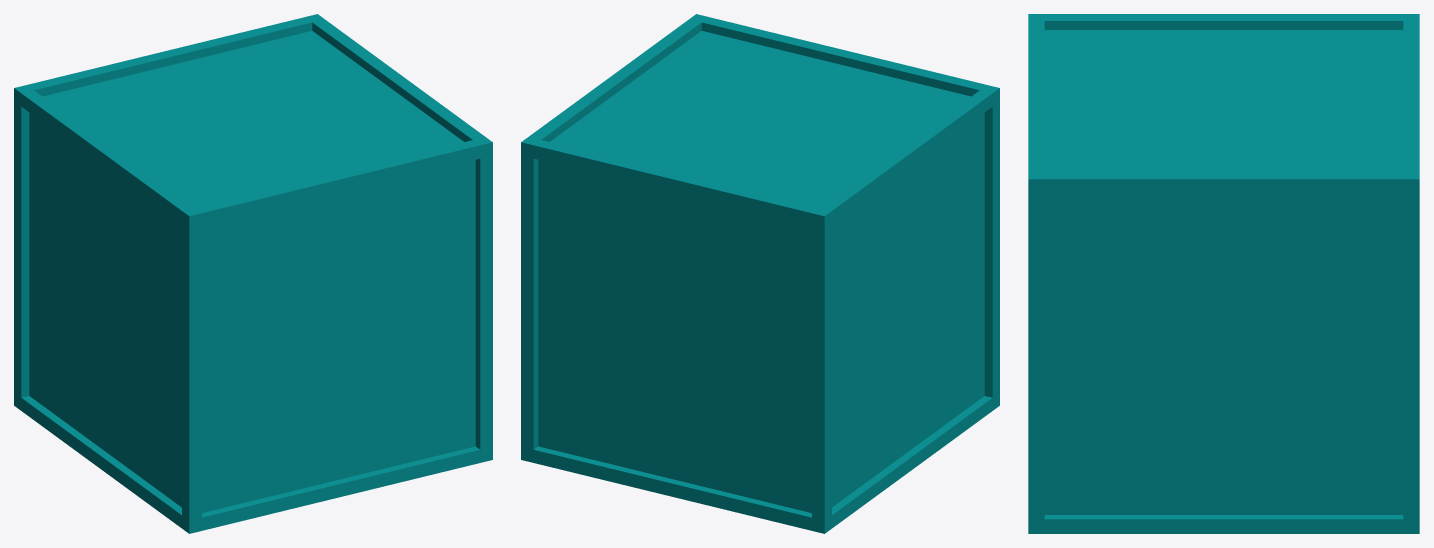
File: SFI0410007.fbx
The picture shows the model from 3 angles, left to right: view 1: azimuth 30°, elevation 25°; view 2: azimuth 150°, elevation 25°; view 3: azimuth 270°, elevation 25°; orthographic projection. The views are drawn at different scales.
Visible parts, largest first — view 1: smSFI0410007; view 2: smSFI0410007; view 3: smSFI0410007.
Boxes of the visible parts, x1,y1,x2,y2 form: smSFI0410007: (14, 14, 492, 533); smSFI0410007: (521, 14, 999, 533); smSFI0410007: (1028, 14, 1419, 533).
Bounding box in the file's own units: 100 × 100 × 100.
